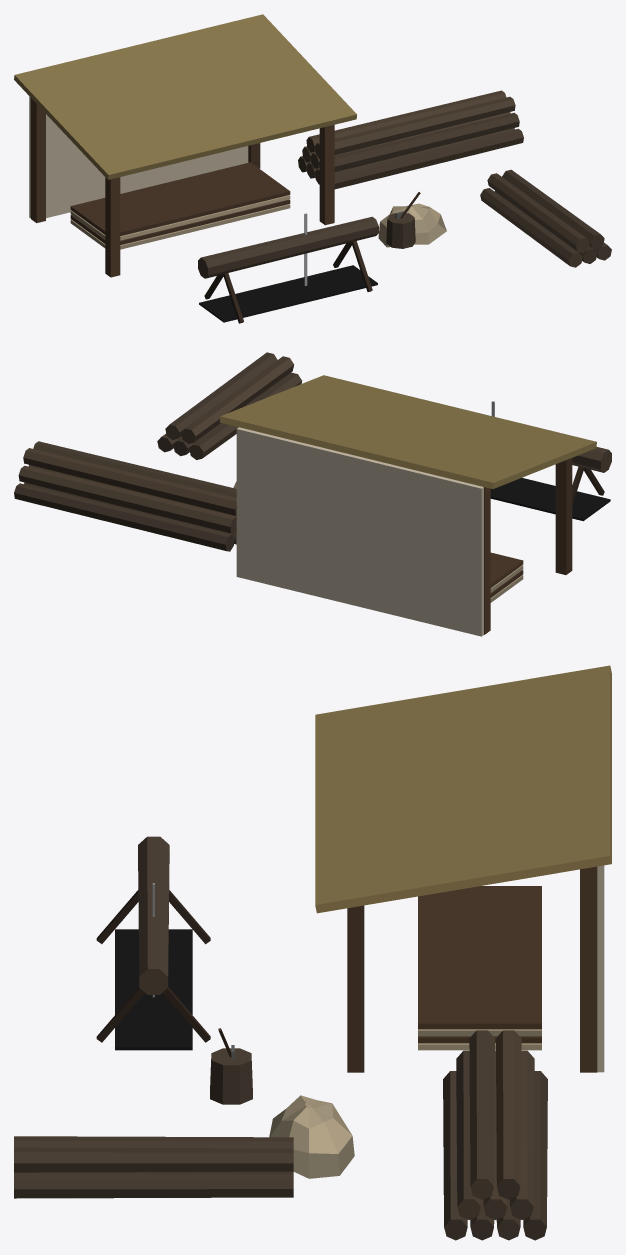
The model's file is walk_sunborn_lumber.glb.
3 renders of one model, top to bottom at view 1: azimuth 30°, elevation 25°; view 2: azimuth 150°, elevation 25°; view 3: azimuth 270°, elevation 25°, orthographic. The views are drawn at different scales.
Visible parts, largest first — view 1: walk_sunborn_lumber, walk_sunborn_lumber_roof; view 2: walk_sunborn_lumber, walk_sunborn_lumber_roof; view 3: walk_sunborn_lumber, walk_sunborn_lumber_roof.
Part boxes in pixels (bbox=[...]): walk_sunborn_lumber: bbox=[29, 90, 611, 323]; walk_sunborn_lumber_roof: bbox=[14, 14, 356, 179]; walk_sunborn_lumber: bbox=[14, 352, 611, 636]; walk_sunborn_lumber_roof: bbox=[219, 375, 596, 488]; walk_sunborn_lumber: bbox=[14, 836, 604, 1240]; walk_sunborn_lumber_roof: bbox=[315, 665, 611, 913].
Size of what is drawn, in the model's own units: 10.65 by 3.69 by 7.7.
2 materials, 2 textured.
